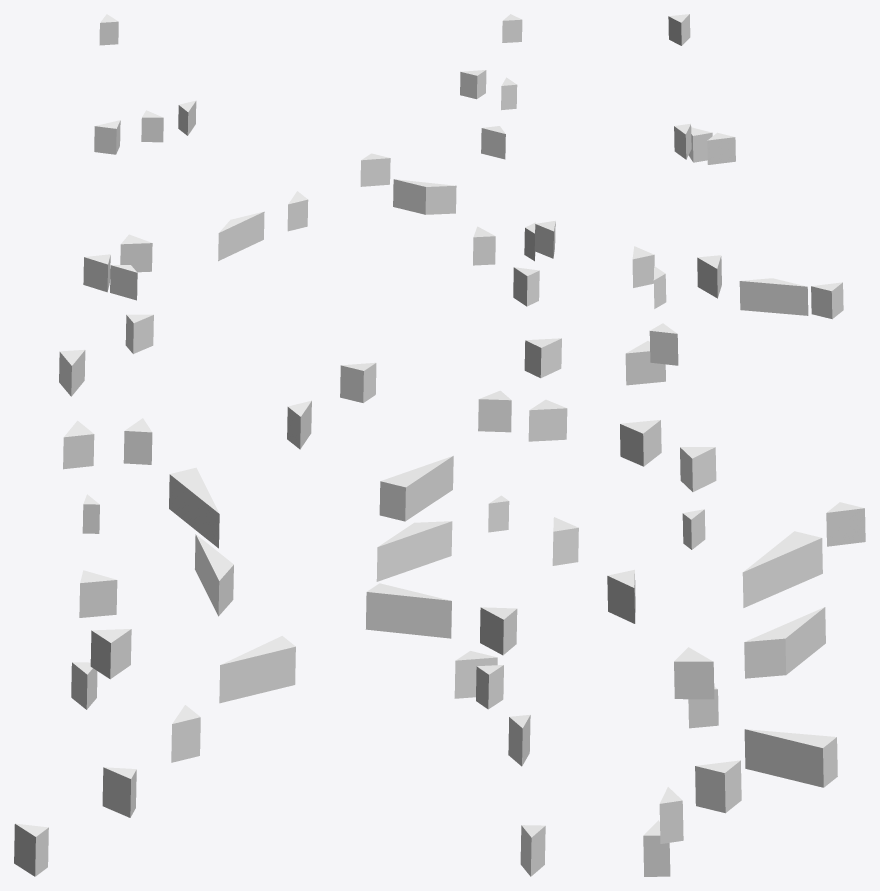
Rendered from ol_presents.obj.
The picture shows the model from 3 angles, left to right: view 1: azimuth 30°, elevation 25°; view 2: azimuth 150°, elevation 25°; view 3: azimuth 330°, elevation 25°; orthographic projection. The views are drawn at different scales.
Visible parts, largest first — view 1: Text.009_Mesh.007; view 2: Text.009_Mesh.007; view 3: Text.009_Mesh.007.
Part boxes in pixels (x1,y1,x2,y2): Text.009_Mesh.007: [14, 14, 311, 876]; Text.009_Mesh.007: [340, 14, 578, 876]; Text.009_Mesh.007: [607, 14, 865, 876].
Size of the model in its own units: 1.66 by 5.47 by 0.7458.
Materials: 1 (1 with a texture image).
